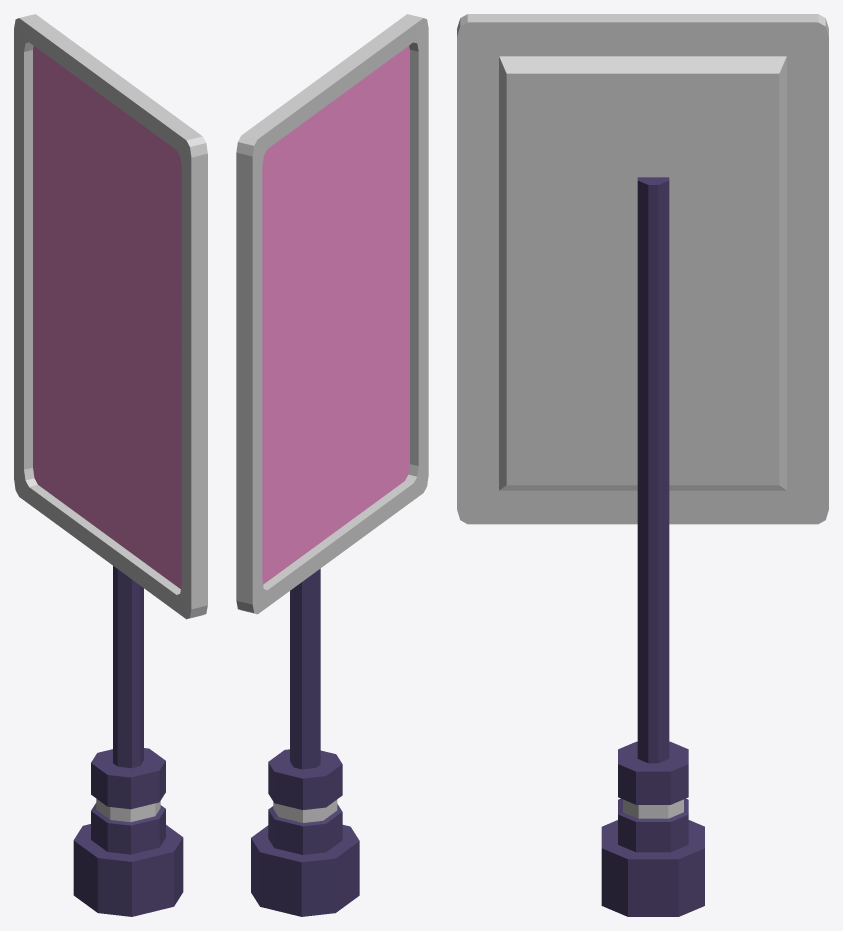
Rendered from affiche_sur_pied_merge.fbx.
3 views of the same model, side by side, from view 1: azimuth 30°, elevation 25°; view 2: azimuth 150°, elevation 25°; view 3: azimuth 270°, elevation 25° (orthographic). The views are drawn at different scales.
Parts seen in each view (by area): view 1: affiche_sur_pied, affiche_sur_pied_emissive; view 2: affiche_sur_pied, affiche_sur_pied_emissive; view 3: affiche_sur_pied_emissive, affiche_sur_pied.
Boxes of the visible parts, <box> form: affiche_sur_pied: <box>33,46,183,916</box>; affiche_sur_pied_emissive: <box>14,14,207,822</box>; affiche_sur_pied: <box>251,46,409,916</box>; affiche_sur_pied_emissive: <box>236,14,428,822</box>; affiche_sur_pied_emissive: <box>457,14,828,818</box>; affiche_sur_pied: <box>601,177,704,916</box>.
Size of the model in its own units: 37.49 by 347 by 135.
